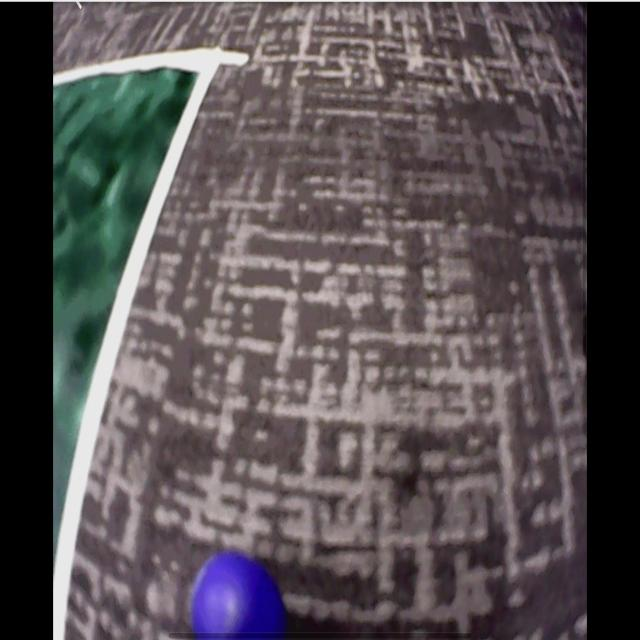ball: (190, 553, 288, 640)
